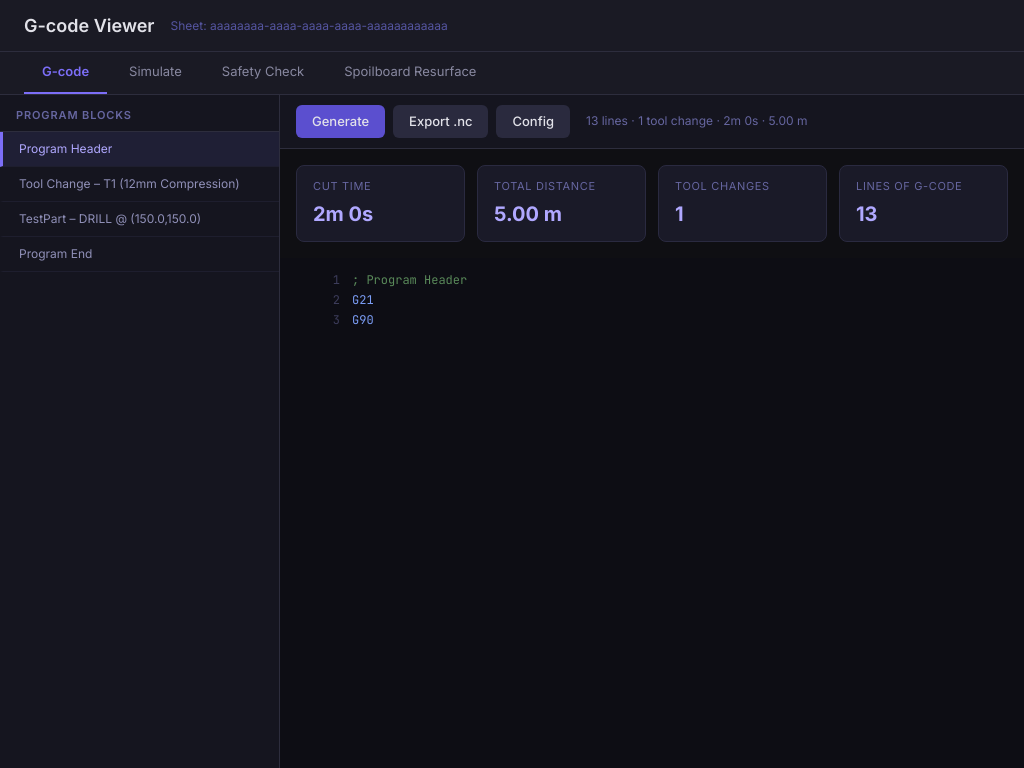
Scenario: Config panel › Config button label changes to "Hide Config" when open
Click the button "Config": (533, 121) [496,104,570,138]
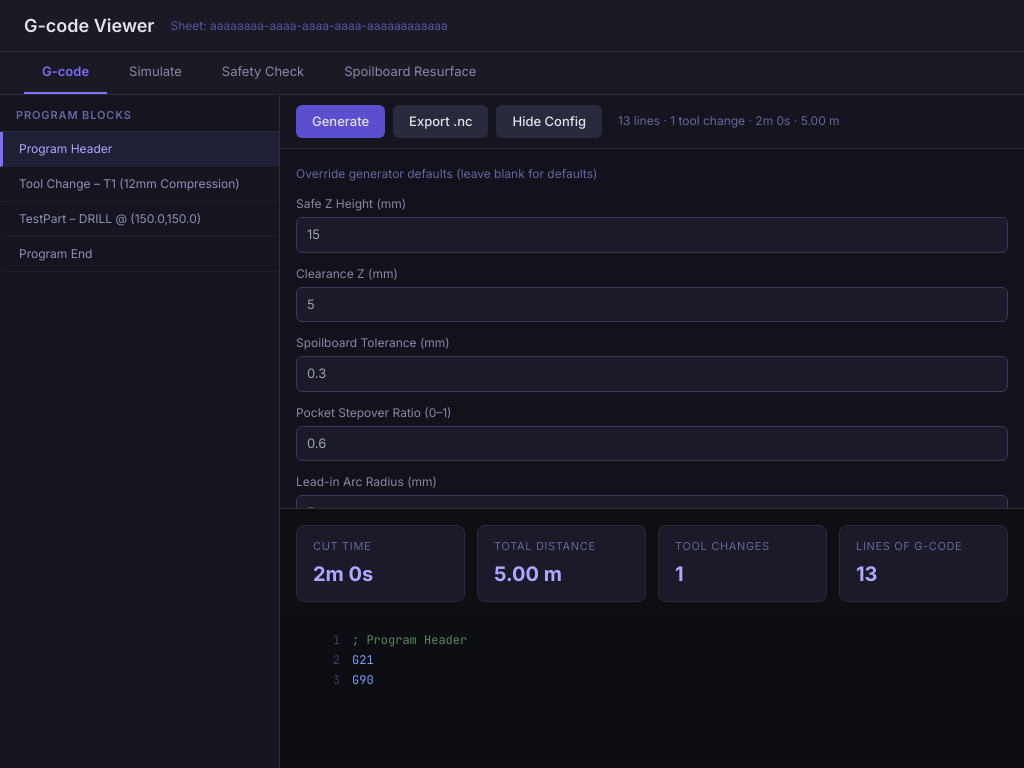
Result: the button "Hide Config" is shown at [496,104,602,138]
